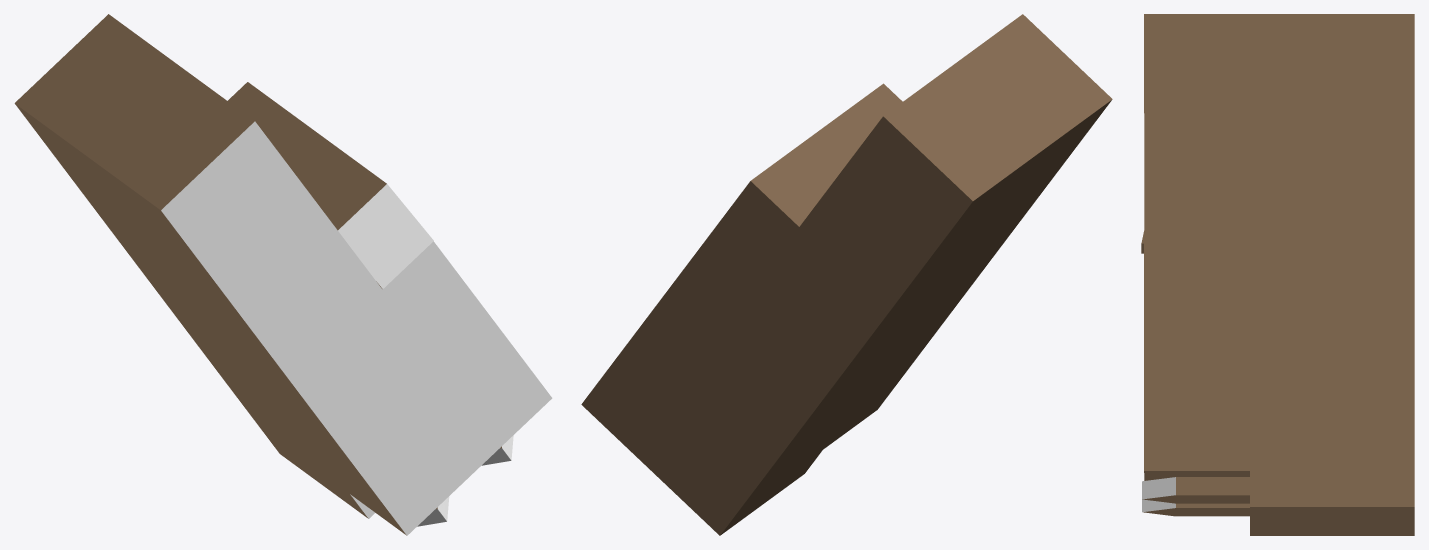
The picture shows the model from 3 angles, left to right: view 1: azimuth 30°, elevation 25°; view 2: azimuth 150°, elevation 25°; view 3: azimuth 270°, elevation 25°; orthographic projection. The views are drawn at different scales.
Parts seen in each view (by area): view 1: City_PC-08563; view 2: City_PC-08563; view 3: City_PC-08563.
Part boxes in pixels (x1,y1,x2,y2): City_PC-08563: (14, 14, 552, 535); City_PC-08563: (581, 14, 1112, 535); City_PC-08563: (1141, 14, 1414, 535).
Bounding box in the file's own units: 1790 × 2007 × 1117.
